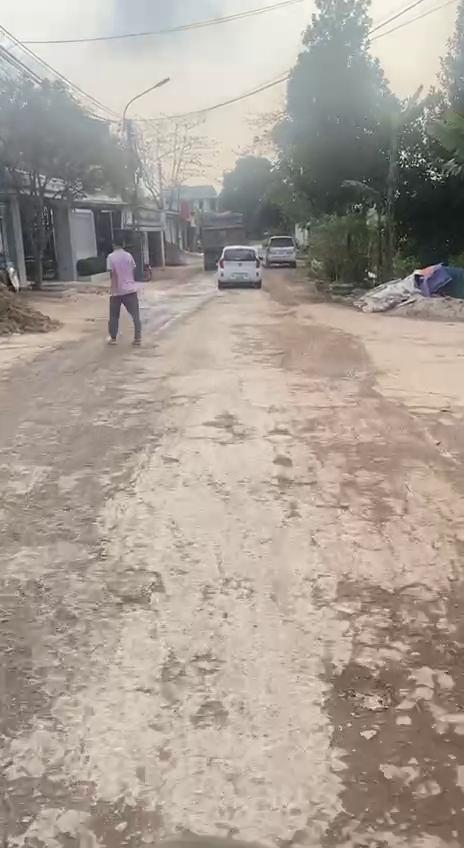pothole: (324, 655, 464, 842), (0, 777, 155, 848)
